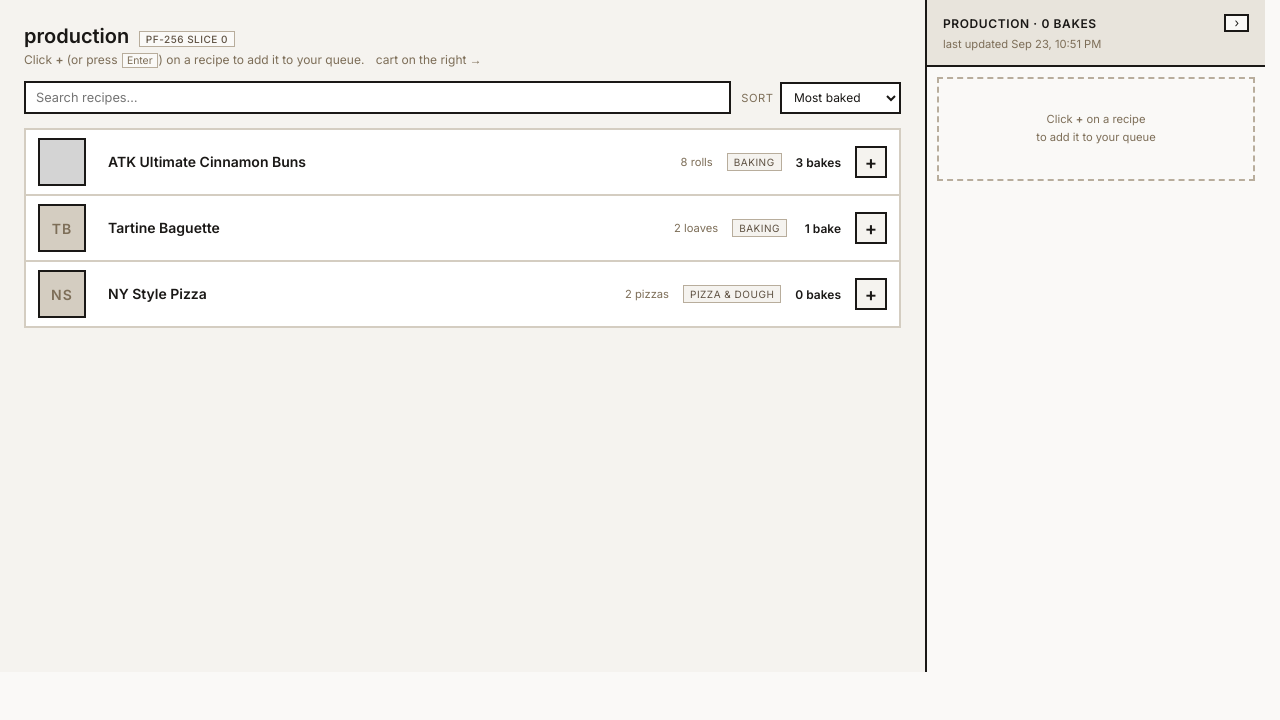
Scenario: ProductionView (Cart pattern, dense list library) › adds an entry to the cart when a library row [+] is clicked
The width and height of the screenshot is (1280, 720).
Click the button with class "library-row-plus" in the row of "ATK Ultimate Cinnamon Buns" at (871,162), box [855,146,887,178]
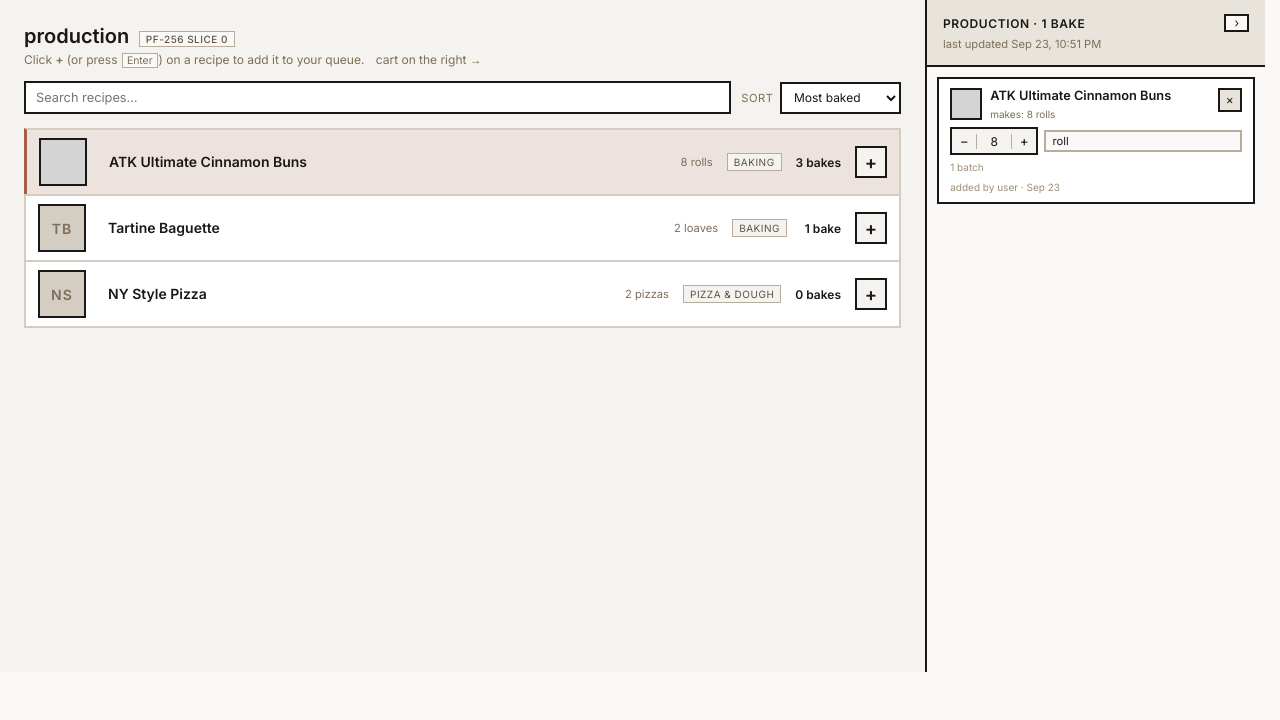
Result: the number of "ProductionCartEntry" components is 1 at [937,77,1255,204]
Result: the text "user" is shown at [997,181,1018,193]
